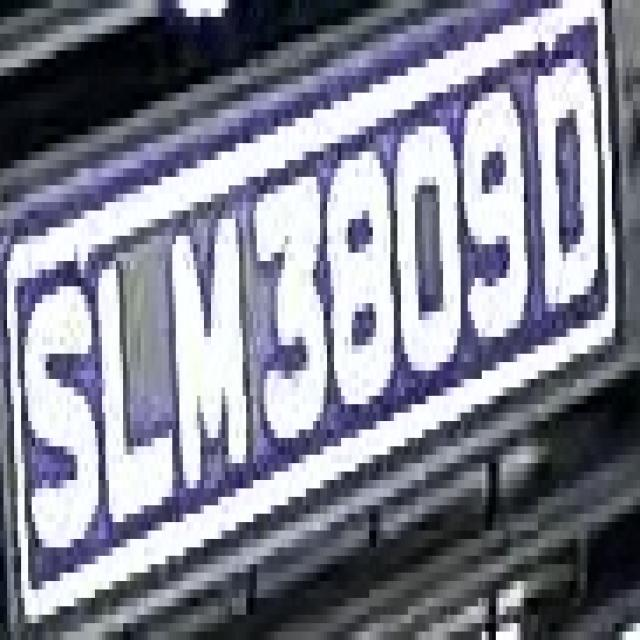0: (394, 93, 461, 379)
3: (246, 143, 334, 472)
8: (323, 118, 398, 421)
9: (457, 67, 531, 354)
D: (531, 34, 608, 312)
L: (88, 219, 176, 497)
M: (168, 202, 250, 489)
S: (7, 253, 109, 581)
